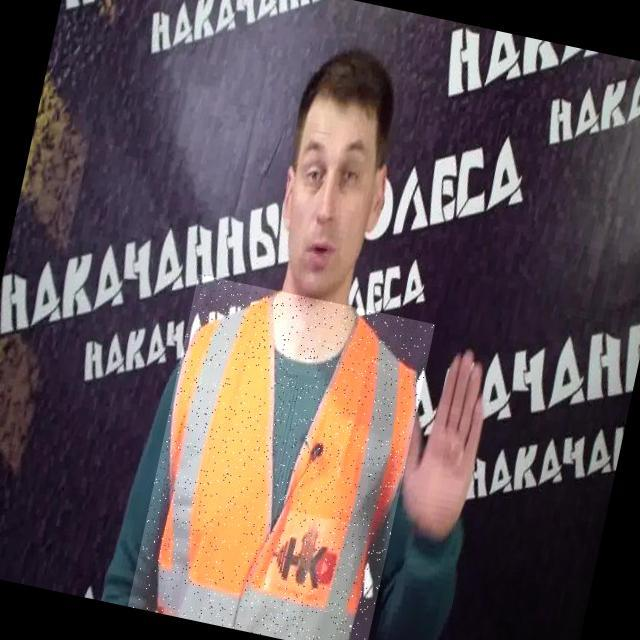Person: (80, 34, 503, 640)
Safety Vest: (127, 273, 434, 640)
bare-arms: (396, 339, 494, 550)
no-helmet: (292, 45, 402, 114)
